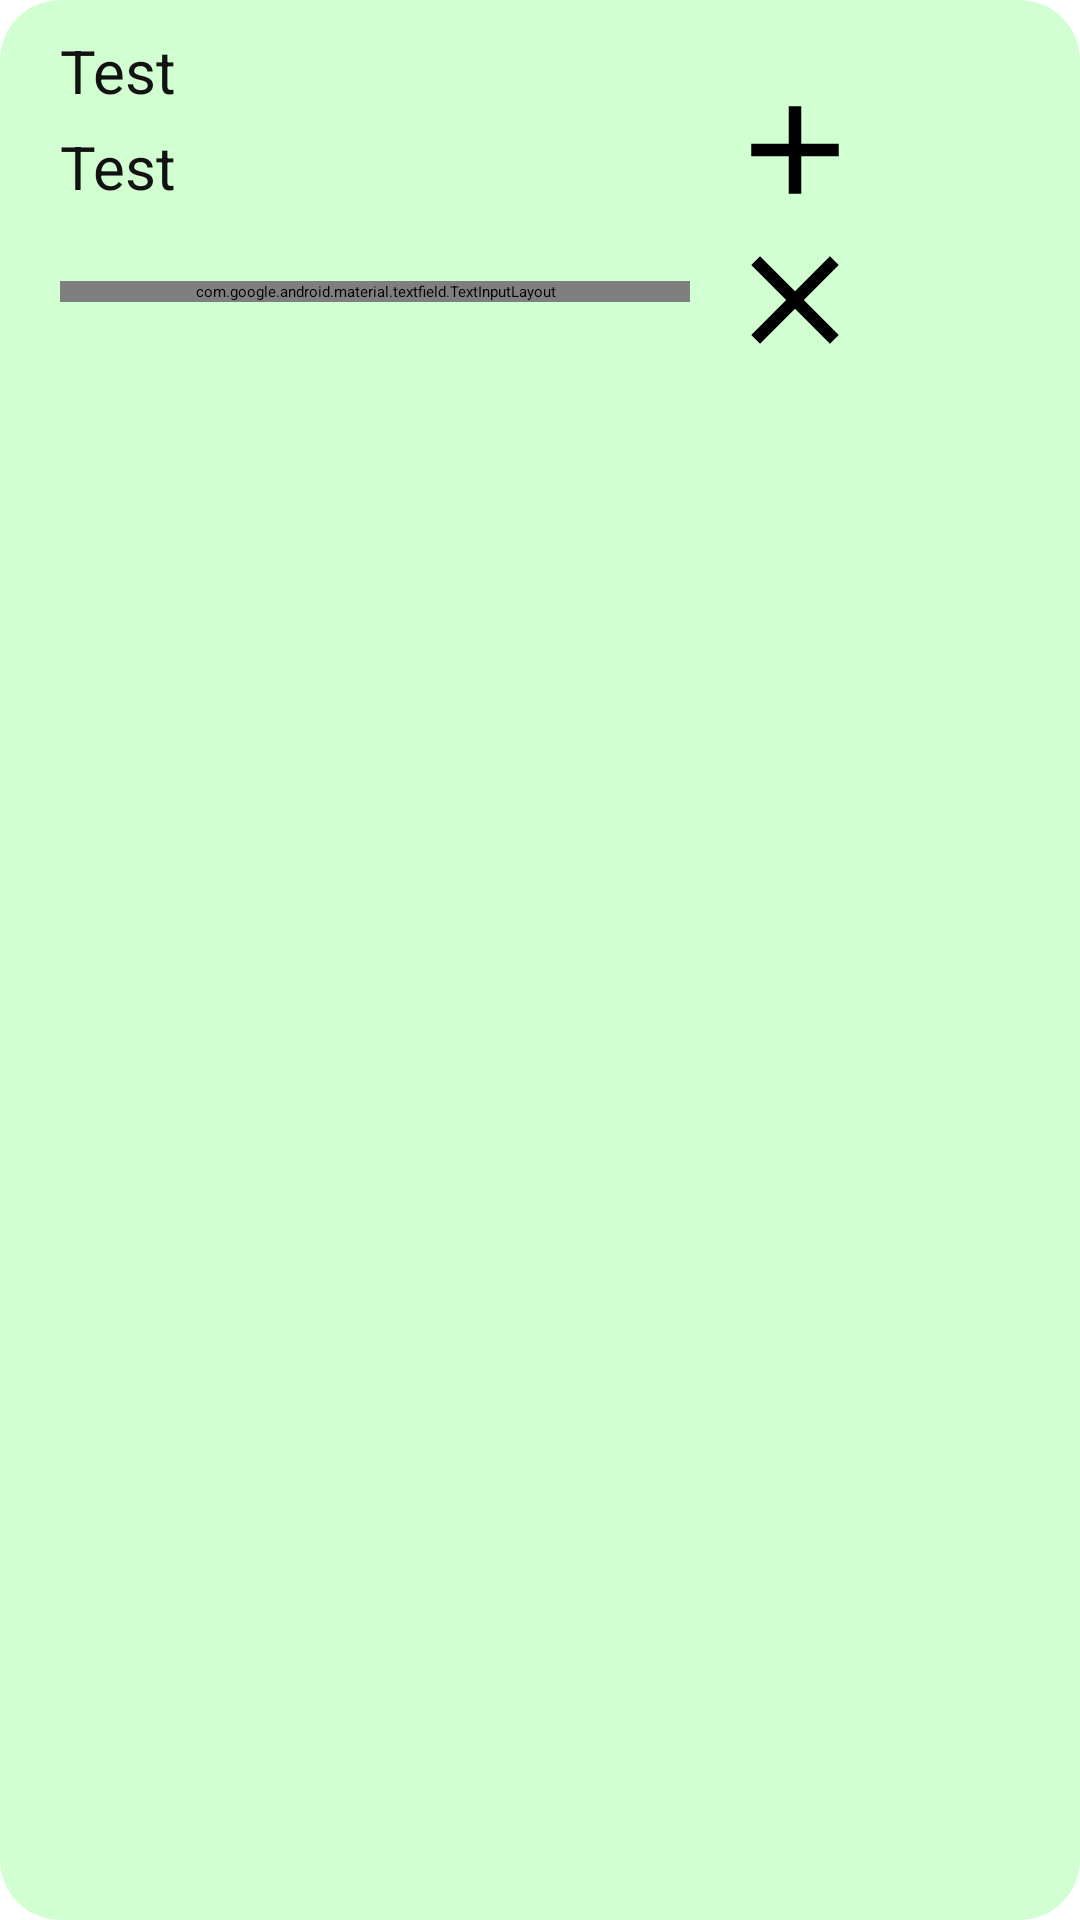

Where icons sit on this 1080px×1920px app screen, as (x1, y1, x2, y2):
add: (751, 106, 839, 194)
close: (751, 256, 839, 344)
